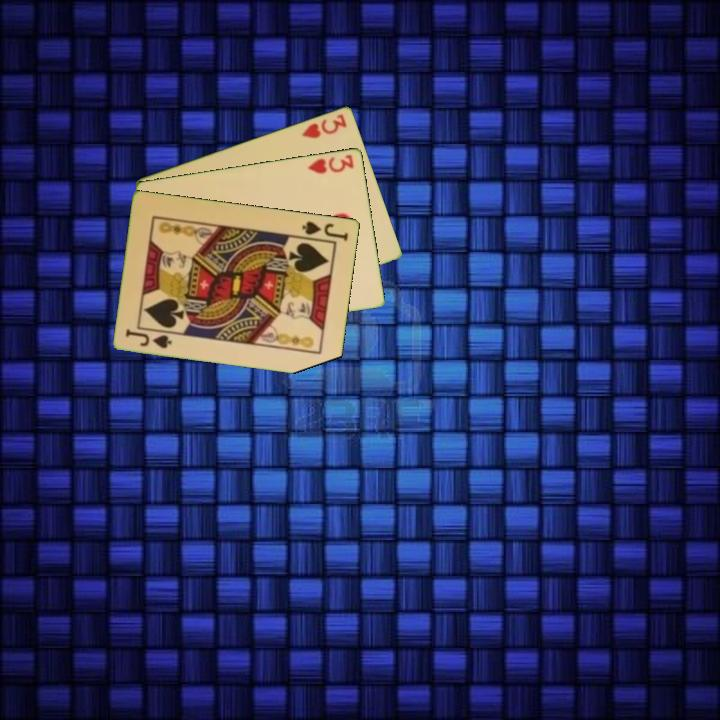3h: (298, 110, 350, 141), (305, 151, 357, 177)
Js: (299, 217, 351, 244), (122, 325, 175, 351)
